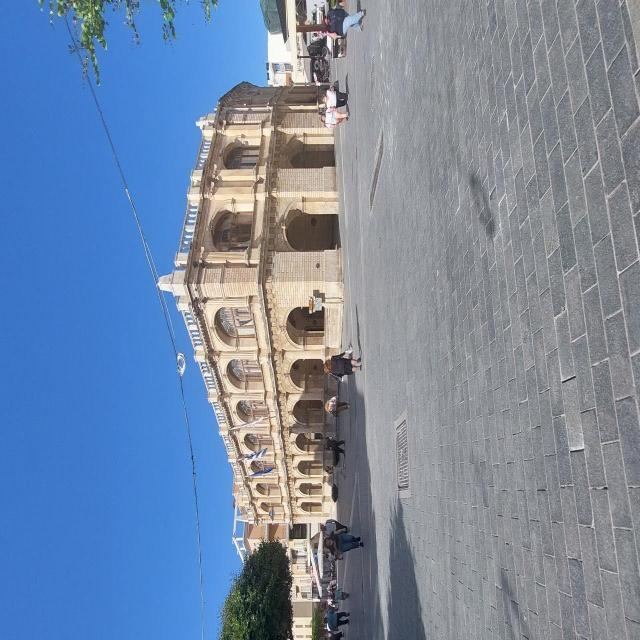Loggia: (55, 349, 247, 640)
